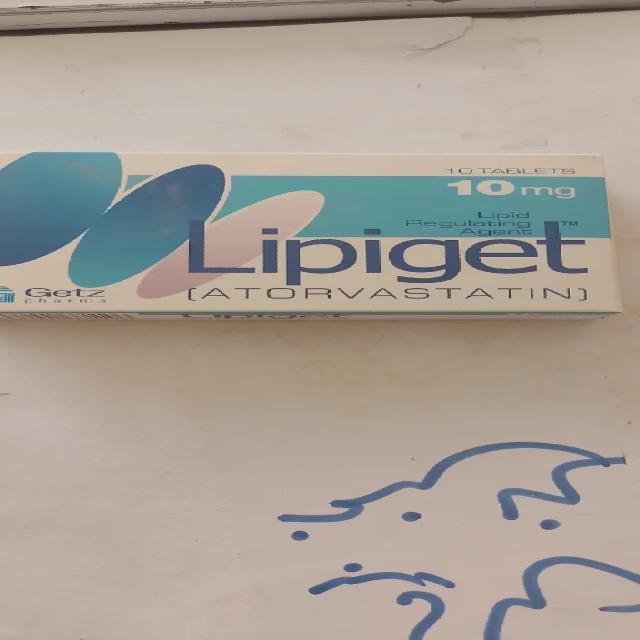drug-name: (181, 218, 595, 285)
